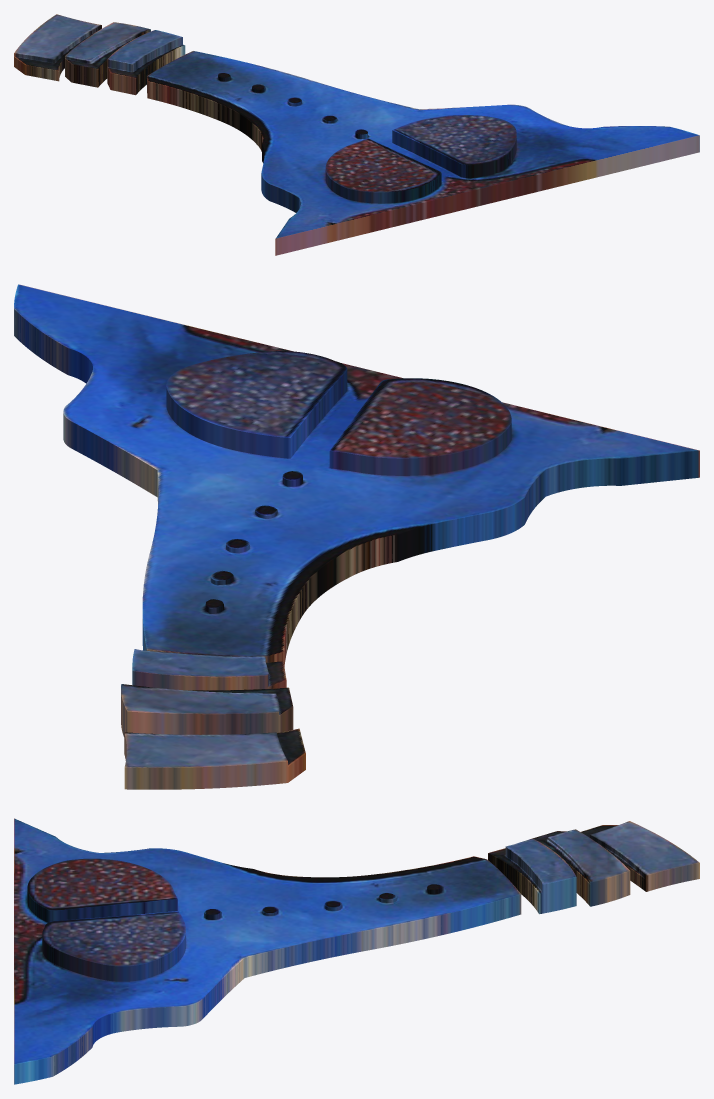
Rendered from el hombre y la ciencia 3.dae.
The picture shows the model from 3 angles, top to bottom: view 1: azimuth 30°, elevation 25°; view 2: azimuth 150°, elevation 25°; view 3: azimuth 270°, elevation 25°; orthographic projection. The views are drawn at different scales.
Parts seen in each view (by area): view 1: SketchUp (×6); view 2: SketchUp (×6); view 3: SketchUp (×6).
Boxes of the visible parts, bbox=[...] form: SketchUp (×6): bbox=[14, 14, 699, 255]; SketchUp (×6): bbox=[14, 284, 699, 789]; SketchUp (×6): bbox=[14, 818, 699, 1084].
Bounding box in the file's own units: 41.29 × 48.33 × 2.75.
2 materials, 1 textured.
